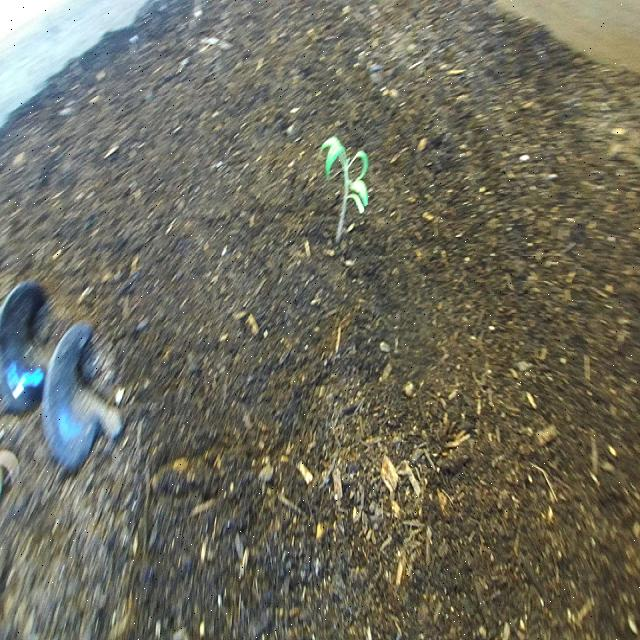Healthy: (314, 120, 374, 263)
